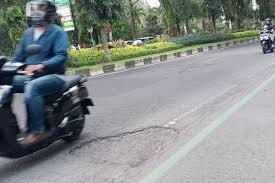Pothole: (69, 120, 183, 173)
